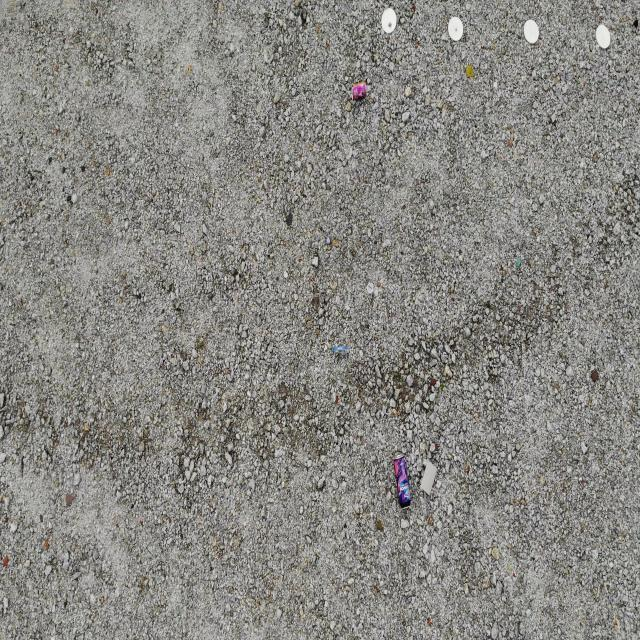rubbish: (392, 453, 412, 510), (419, 458, 439, 498), (348, 81, 365, 103), (333, 341, 349, 354)
